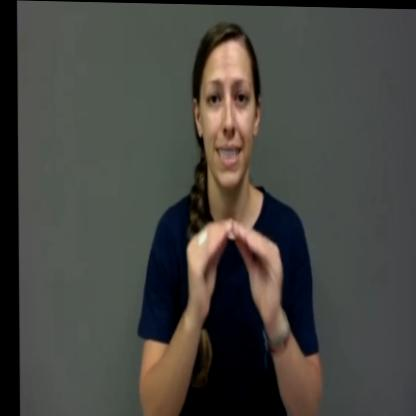Fix: (135, 14, 323, 416)
